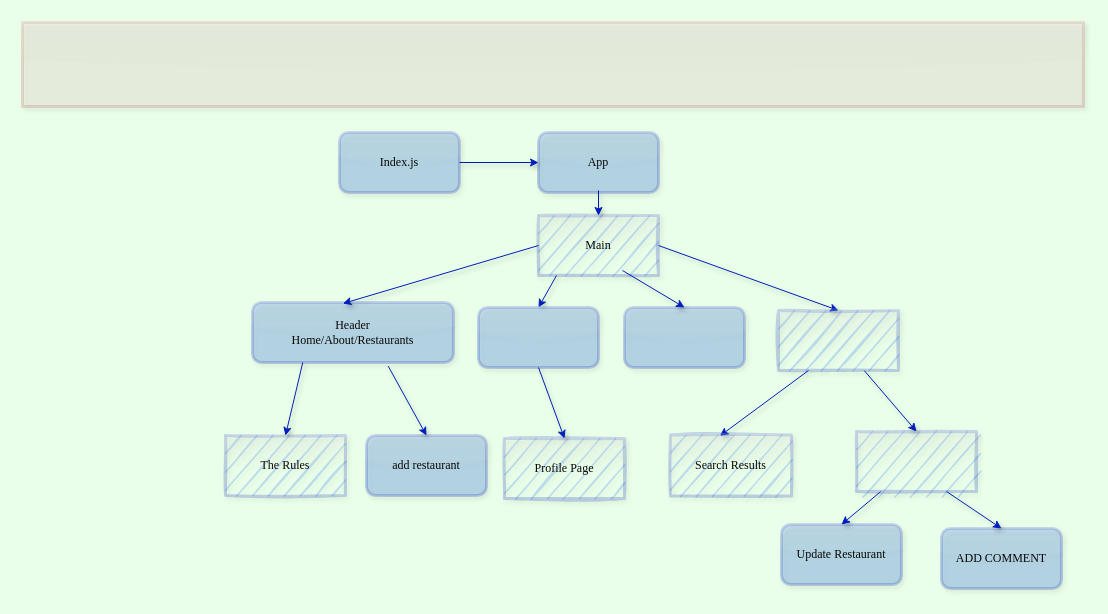
The diagram is 1108 pixels wide and 614 high, and some of its shapes have lost their labels. The shapes that lost their labels are listed below. From the top down, each one's centre as x and y in pixels, then its label:
At (553,65): "ResRec Component Diagram".
At (539,339): "login".
At (685,339): "Search".
At (839,341): "Home Lists ALL restaurants in the database".
At (917,463): "Restaurant Page".
